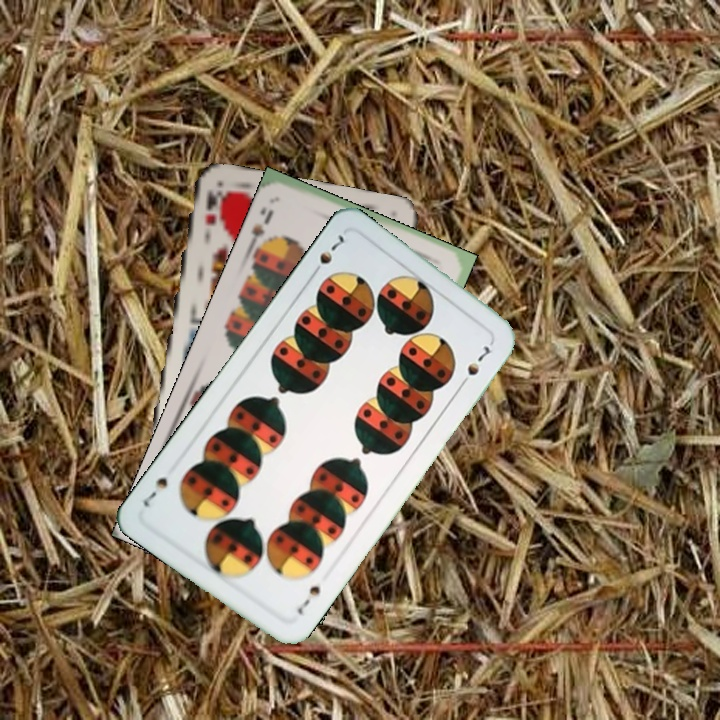HK: (200, 185, 226, 228)
S7: (307, 230, 347, 280), (292, 581, 323, 618)
S9: (244, 203, 276, 254)
